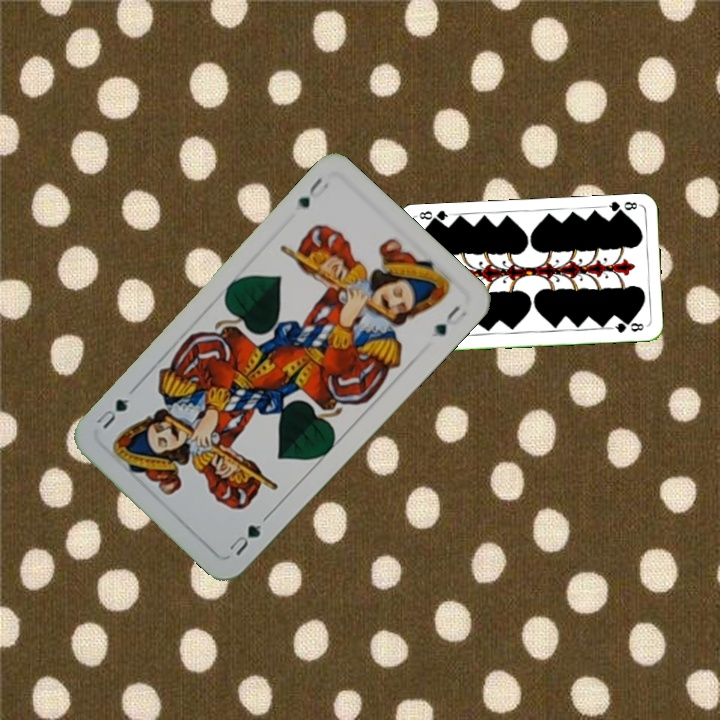G8: (601, 198, 641, 217)
GU: (225, 512, 271, 559), (293, 173, 332, 211)
